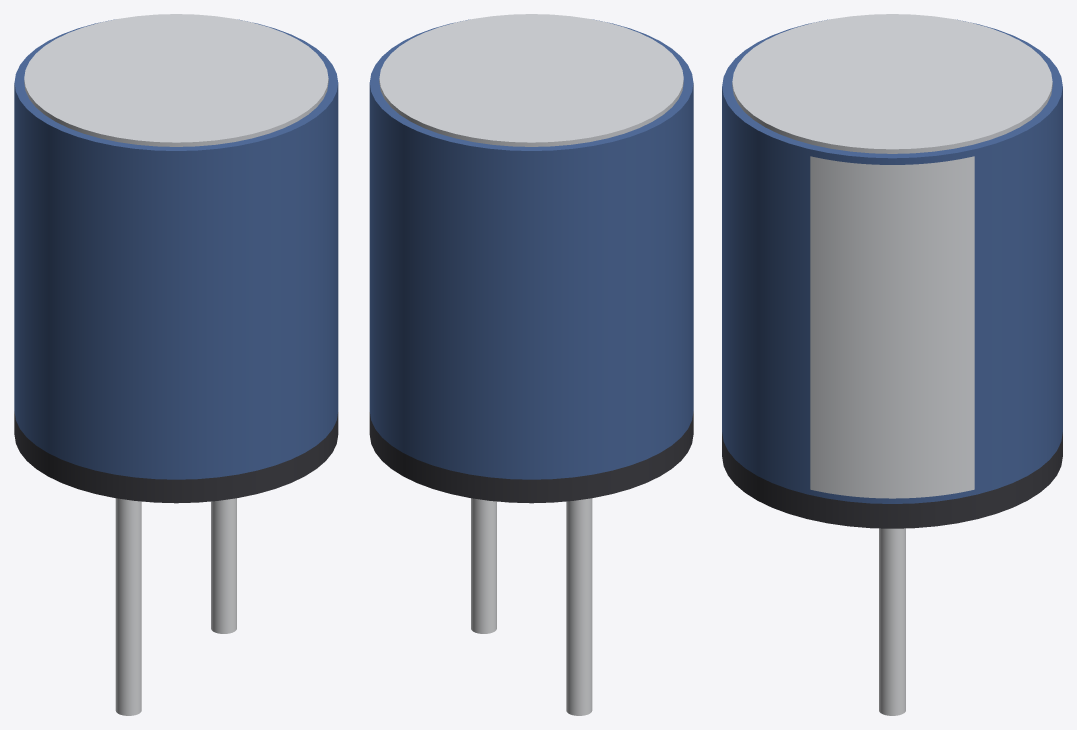
File: sample.glb
3 renders of one model, left to right at view 1: azimuth 30°, elevation 25°; view 2: azimuth 150°, elevation 25°; view 3: azimuth 270°, elevation 25°, orthographic. The views are drawn at different scales.
Parts seen in each view (by area): view 1: Capacitor; view 2: Capacitor; view 3: Capacitor.
Boxes of the visible parts, x1,y1,x2,y2 form: Capacitor: (14,14,338,715); Capacitor: (369,14,693,715); Capacitor: (722,14,1062,715).
Bounding box in the file's own units: 1 × 2.11 × 1.
